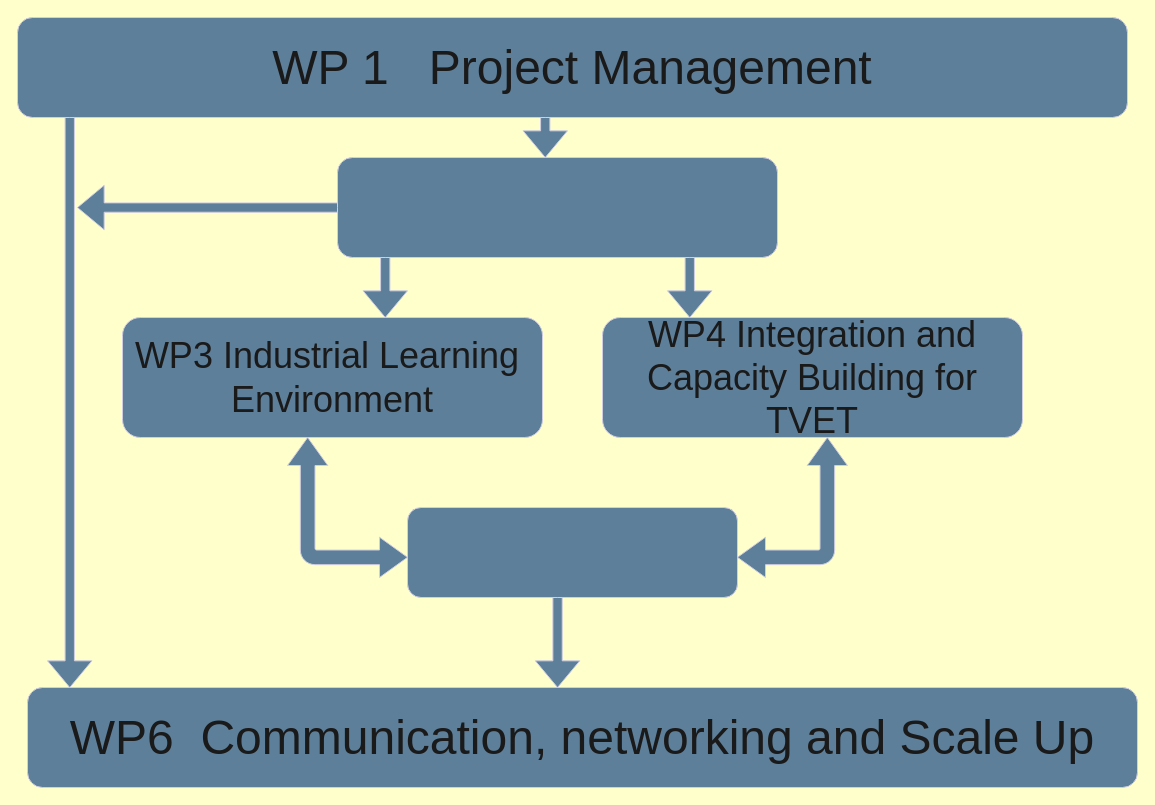
Some shapes in this 1155 by 805 pixel diagram are drawn without their labels. Each missing label, with the centre of its shape:
WP2 Needs Assessment: (557,207)
WP5 Work Based Learning Launch: (572,552)
